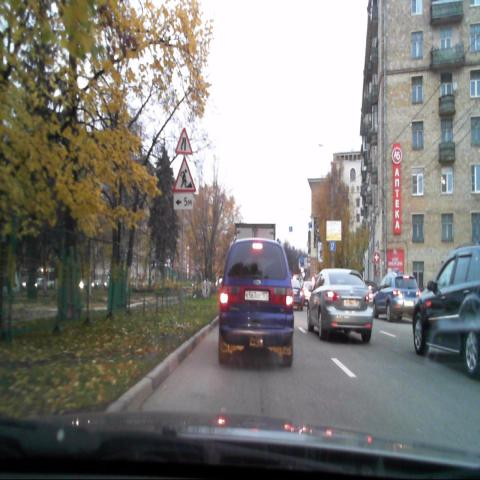1_20_3: (176, 128, 192, 155)
1_25: (172, 156, 196, 191)
8_1_4: (174, 193, 194, 210)
